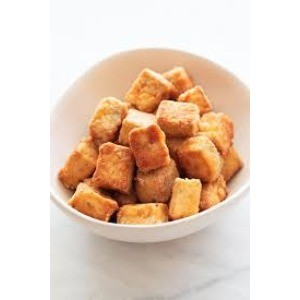tofu_brain food: (60, 62, 233, 227)
